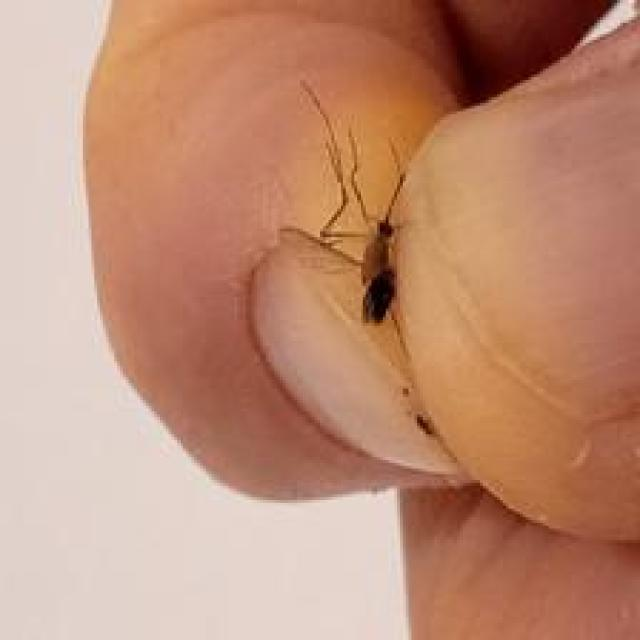Culex: (282, 77, 444, 440)
